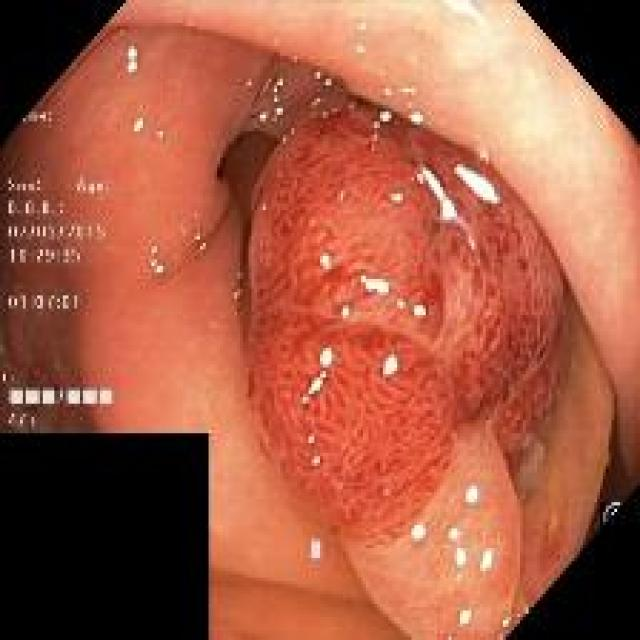Polyps: (249, 99, 564, 539)
